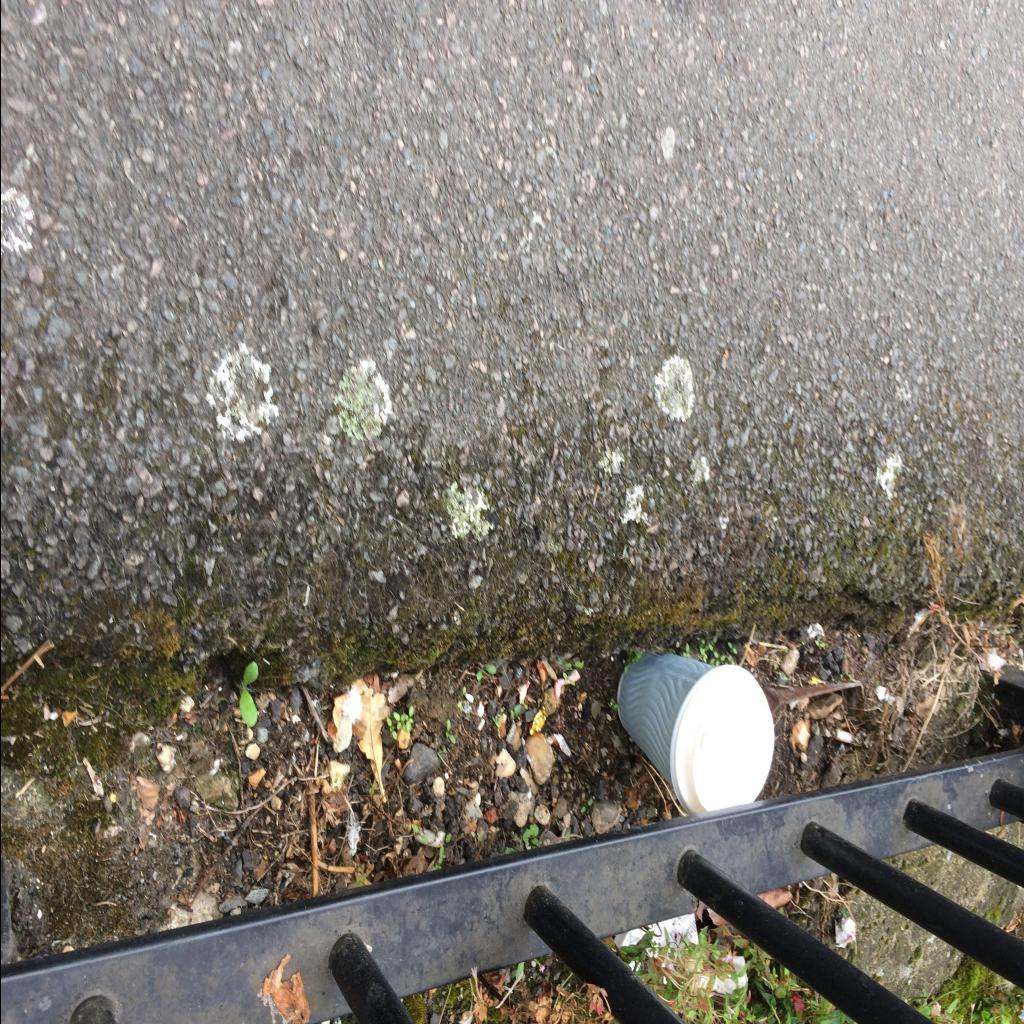Normal paper: (613, 914, 697, 961)
Paper cup: (616, 650, 774, 816)
Plastic lid: (674, 666, 774, 814)
Unlabeled litter: (834, 918, 856, 948)
